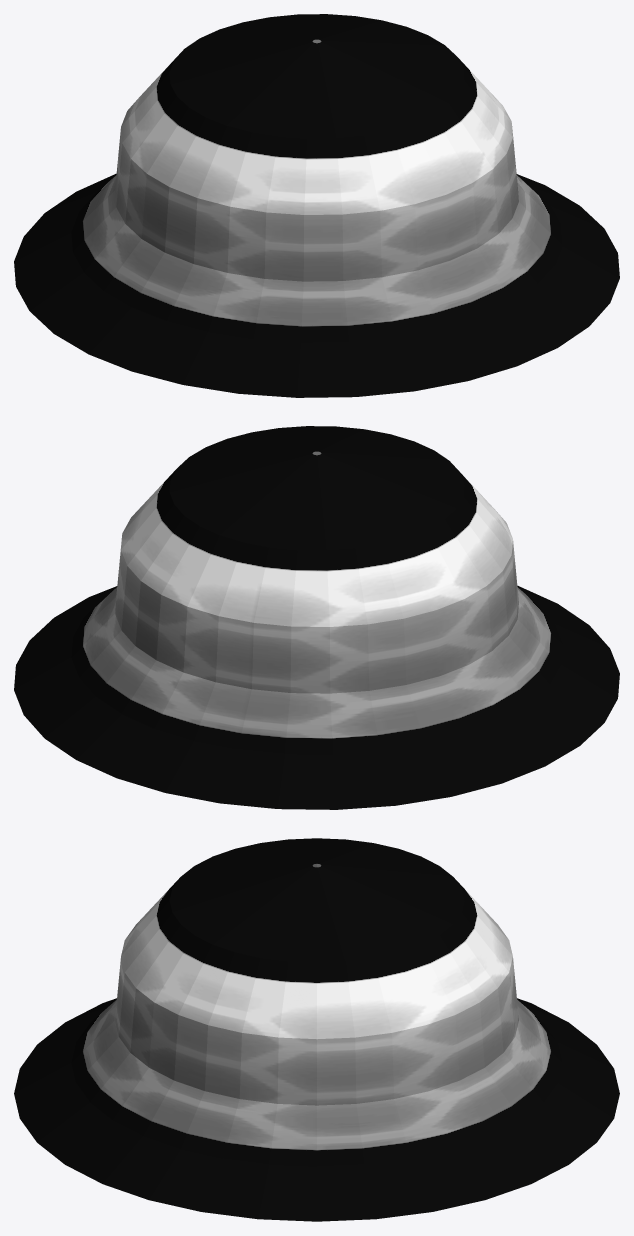
Rendered from 0460_wasidan_Mesh_01.glb.
3 renders of one model, top to bottom at view 1: azimuth 30°, elevation 25°; view 2: azimuth 150°, elevation 25°; view 3: azimuth 270°, elevation 25°, orthographic.
Bounding box in the file's own units: 2.2 × 0.9133 × 2.2.
1 material, 1 textured.
